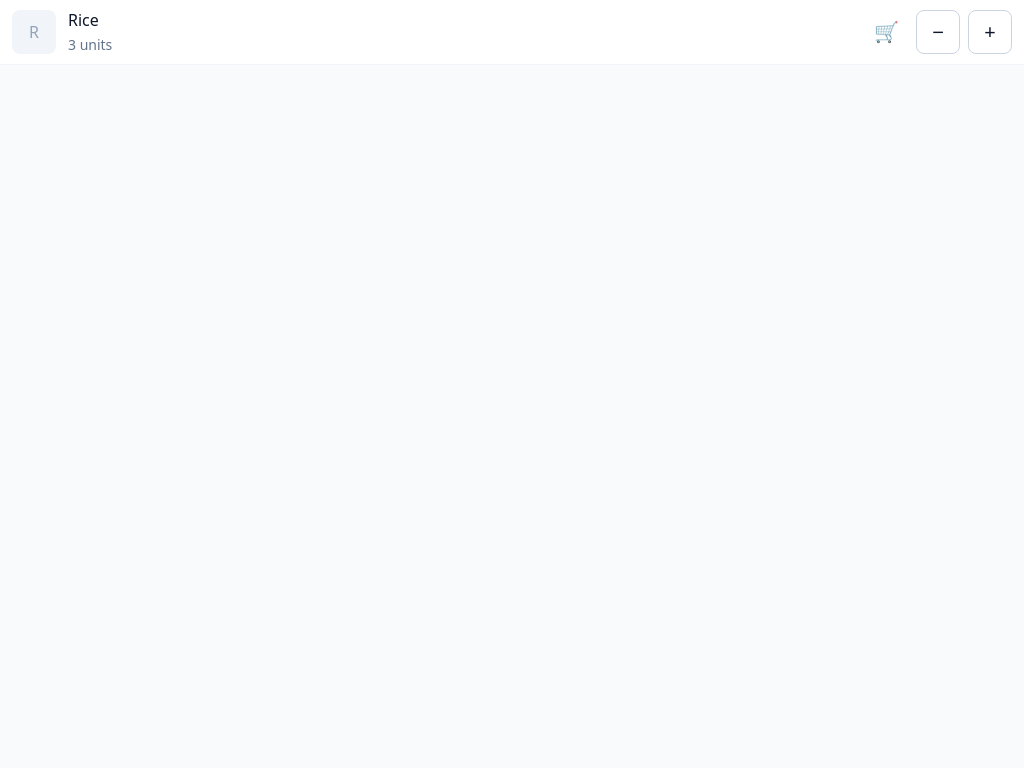
ItemRow step-sized tap › tapping - on a step-8 unit consumes 8
The width and height of the screenshot is (1024, 768).
Click the button named "Use 8 units Rice" at (938,32), box [916,10,960,54]
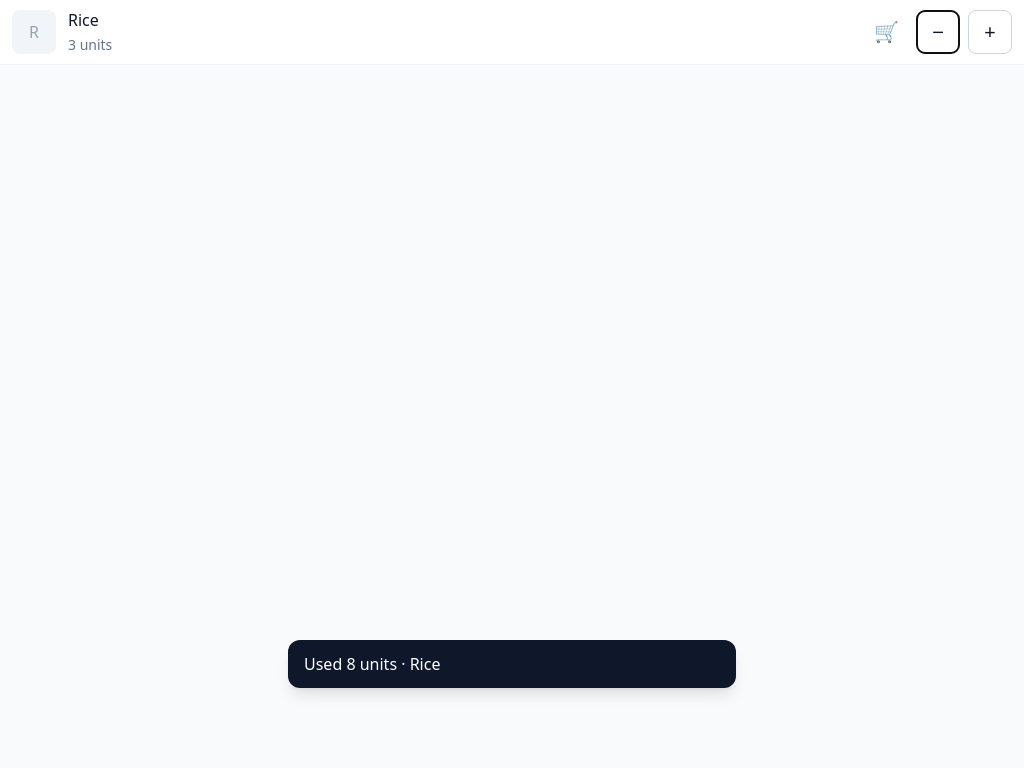
expect the text "Used 8 units · Rice" is shown: met, box [304,652,440,676]
